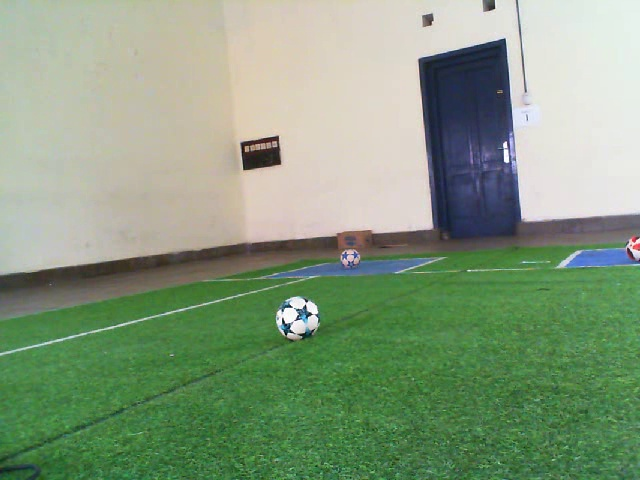ball: (273, 294, 323, 343), (338, 247, 364, 271), (623, 233, 640, 266)
